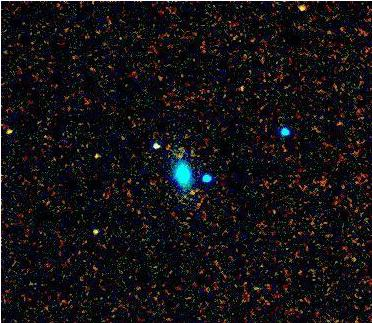star: (285, 0, 315, 24)
